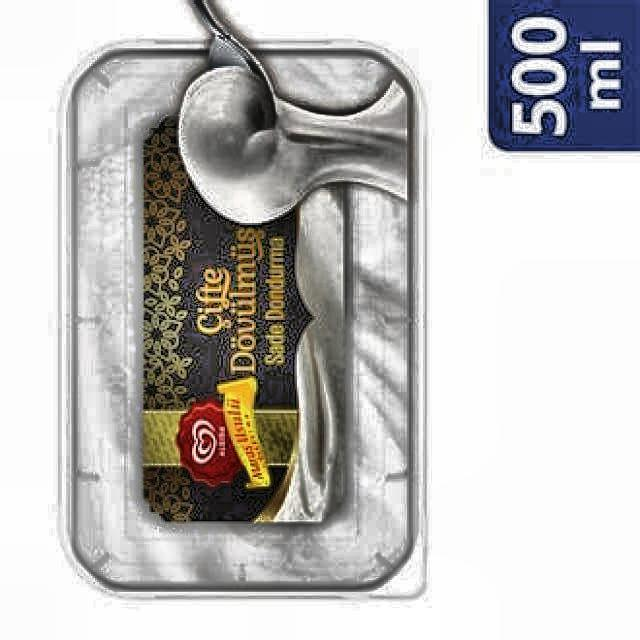plastic: (58, 42, 432, 598)
